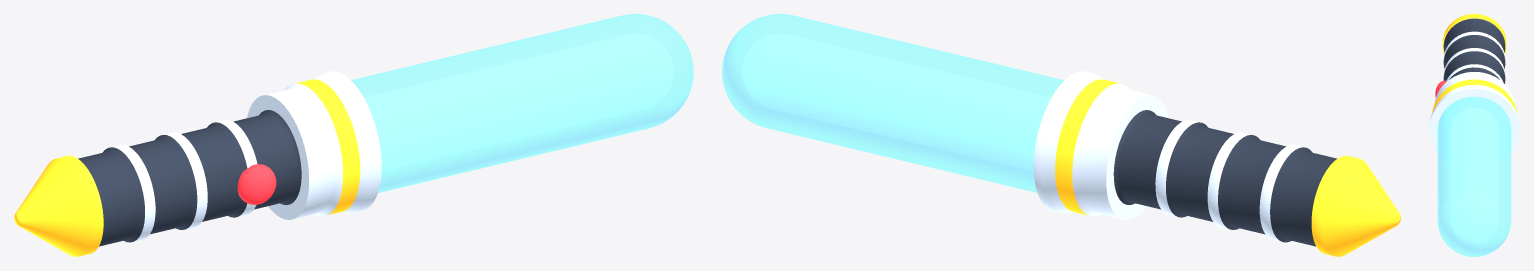
The picture shows the model from 3 angles, left to right: view 1: azimuth 30°, elevation 25°; view 2: azimuth 150°, elevation 25°; view 3: azimuth 270°, elevation 25°; orthographic projection. The views are drawn at different scales.
Parts seen in each view (by area): view 1: SaberClassic; view 2: SaberClassic; view 3: SaberClassic.
Part boxes in pixels (x1=…): SaberClassic: x1=14, y1=14, x2=693, y2=256; SaberClassic: x1=722, y1=14, x2=1400, y2=256; SaberClassic: x1=1429, y1=14, x2=1519, y2=256.
Bounding box in the file's own units: 6.07 × 1.12 × 1.12.
